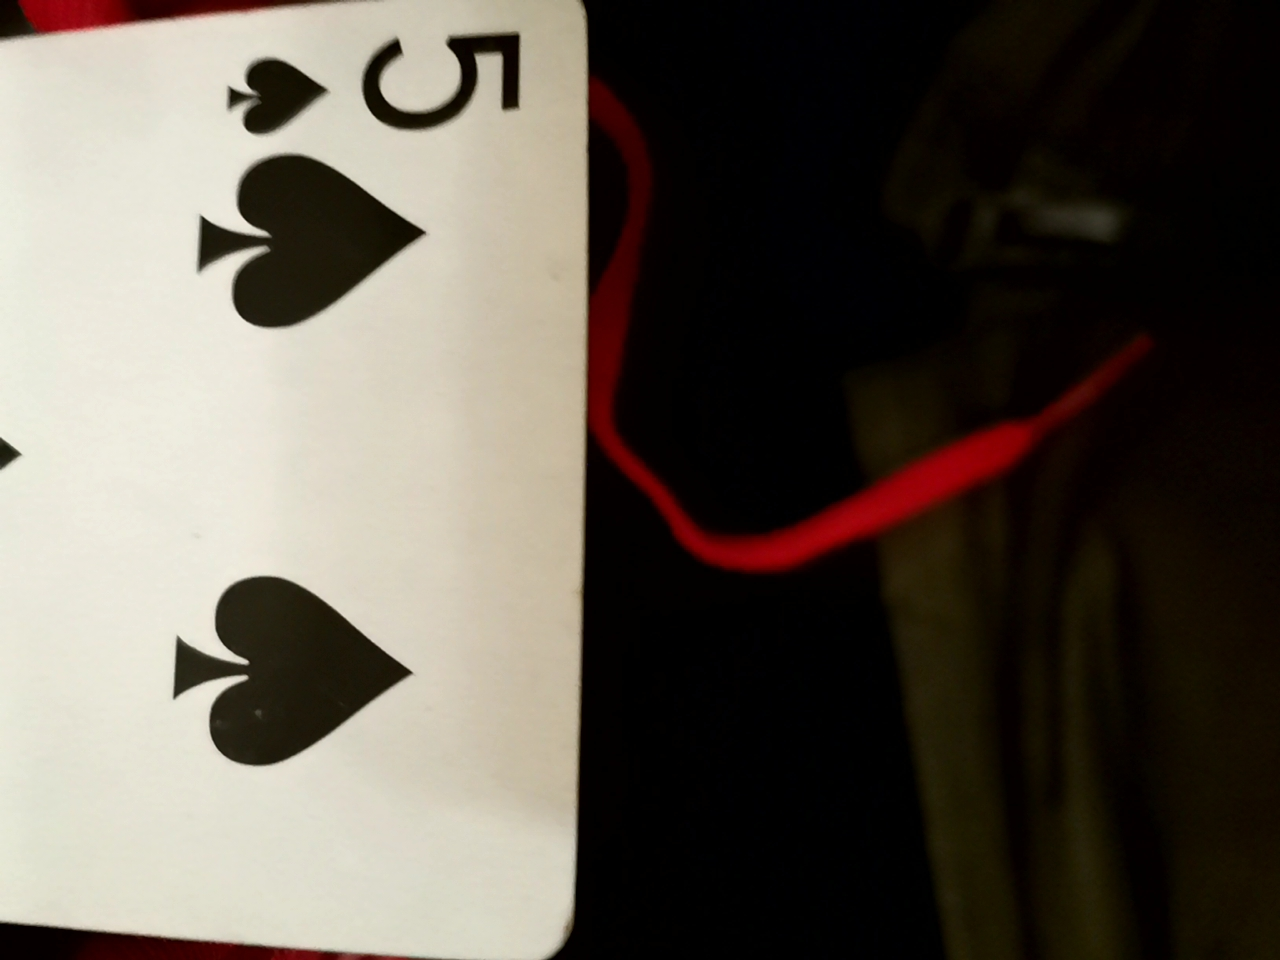ht 5: (10, 0, 599, 936)
